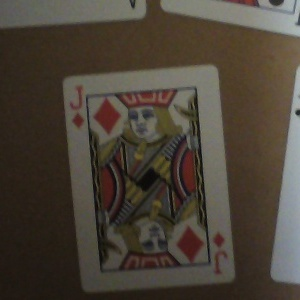card: (61, 63, 239, 292)
